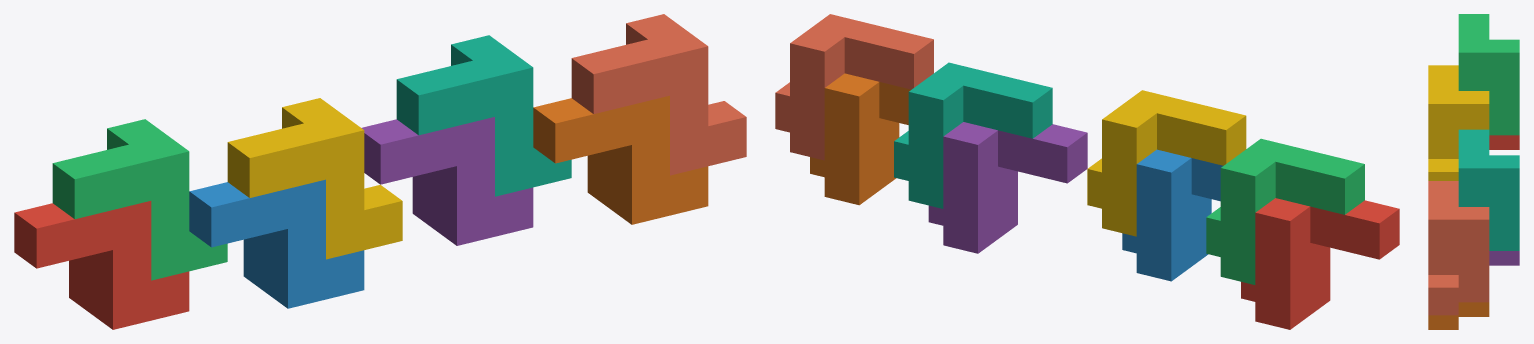
File: tiling.obj
The picture shows the model from 3 angles, left to right: view 1: azimuth 30°, elevation 25°; view 2: azimuth 150°, elevation 25°; view 3: azimuth 270°, elevation 25°; orthographic projection. The views are drawn at different scales.
Parts seen in each view (by area): view 1: copy_1_domain_8, copy_1_domain_4, copy_1_domain_1, copy_1_domain_6, copy_1_domain_2, copy_1_domain_5, copy_1_domain_3, copy_1_domain_7; view 2: copy_1_domain_1, copy_1_domain_5, copy_1_domain_3, copy_1_domain_7, copy_1_domain_4, copy_1_domain_8, copy_1_domain_2, copy_1_domain_6; view 3: copy_1_domain_8, copy_1_domain_3, copy_1_domain_7, copy_1_domain_4, copy_1_domain_6, copy_1_domain_1, copy_1_domain_5.
Boxes of the visible parts, x1=… form: copy_1_domain_8: x1=571, y1=14, x2=746, y2=175; copy_1_domain_4: x1=227, y1=98, x2=402, y2=259; copy_1_domain_1: x1=14, y1=201, x2=189, y2=329; copy_1_domain_6: x1=533, y1=95, x2=708, y2=224; copy_1_domain_2: x1=189, y1=179, x2=364, y2=308; copy_1_domain_5: x1=362, y1=117, x2=533, y2=245; copy_1_domain_3: x1=52, y1=119, x2=227, y2=280; copy_1_domain_7: x1=396, y1=35, x2=571, y2=196; copy_1_domain_1: x1=1241, y1=198, x2=1399, y2=329; copy_1_domain_5: x1=928, y1=122, x2=1087, y2=253; copy_1_domain_3: x1=1206, y1=138, x2=1364, y2=284; copy_1_domain_7: x1=894, y1=62, x2=1052, y2=208; copy_1_domain_4: x1=1087, y1=90, x2=1246, y2=236; copy_1_domain_8: x1=775, y1=14, x2=933, y2=160; copy_1_domain_2: x1=1122, y1=149, x2=1223, y2=281; copy_1_domain_6: x1=810, y1=73, x2=910, y2=205; copy_1_domain_8: x1=1428, y1=181, x2=1489, y2=315; copy_1_domain_3: x1=1458, y1=14, x2=1519, y2=135; copy_1_domain_7: x1=1458, y1=129, x2=1519, y2=250; copy_1_domain_4: x1=1428, y1=65, x2=1489, y2=180; copy_1_domain_6: x1=1428, y1=302, x2=1489, y2=329; copy_1_domain_1: x1=1489, y1=135, x2=1519, y2=149; copy_1_domain_5: x1=1489, y1=251, x2=1519, y2=265.
Size of the model in its own units: 18 by 4 by 3.
